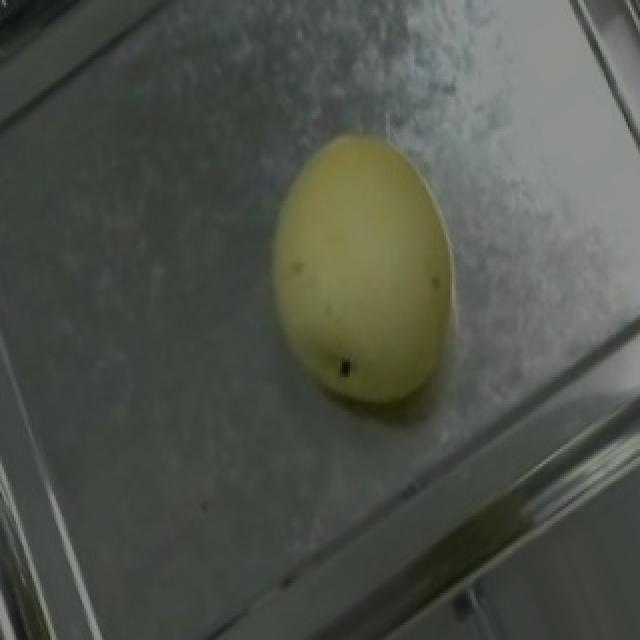Fruit: (220, 92, 508, 446)
